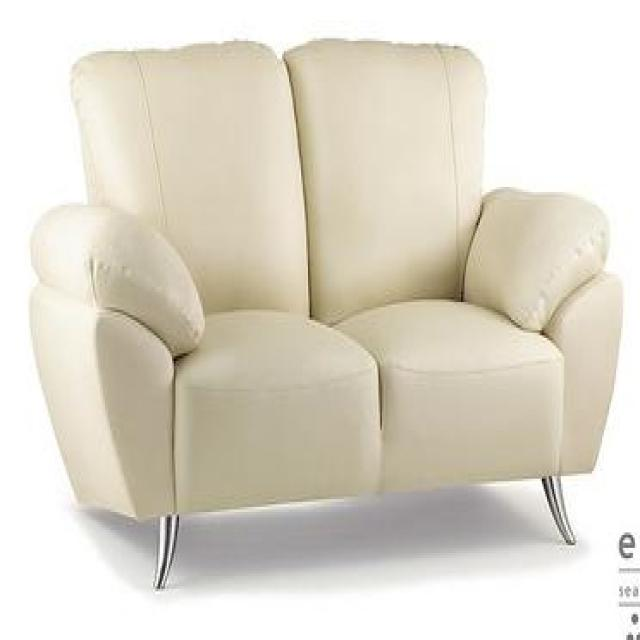sofa: (27, 40, 624, 593)
